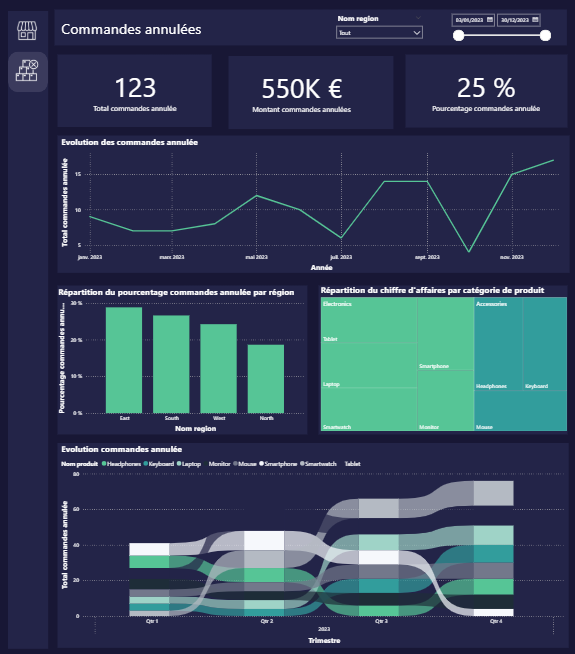

The page's visual inventory and layout, read from the dashboard file:
{"tool":"powerbi","page":{"name":"Ventes annulées","canvas":[1280,2000],"ordinal":1},"visuals":[{"type":"shape","box":[19,58.6,89.7,1417.2],"z":0},{"type":"shape","box":[123.6,57.9,1138.7,79.8],"z":1000},{"type":"shape","box":[129.8,156.4,342.5,161.1],"z":2000},{"type":"shape","box":[129.3,337.9,1137.9,305.2],"z":3000},{"type":"shape","box":[129.3,669,555.2,331],"z":4000},{"type":"shape","box":[708.6,669,553.4,331],"z":5000},{"type":"shape","box":[131,1020.7,1136.2,455.2],"z":6000},{"type":"textbox","box":[132.8,70.7,267.2,53.4],"z":7000},{"type":"lineChart","title":"Evolution des commandes annulée","fields":{"Category":["ventes.Date commande.Variation.Hiérarchie de dates.Année","ventes.Date commande.Variation.Hiérarchie de dates.Trimestre","ventes.Date commande.Variation.Hiérarchie de dates.Mois","ventes.Date commande.Variation.Hiérarchie de dates.Jour"],"Y":["Mésures.Total commandes annulée"]},"box":[131.9,336.6,1129.8,307],"z":8000},{"type":"clusteredColumnChart","title":"Répartition du pourcentage commandes annulée par région","fields":{"Category":["regions.Nom region"],"Y":["Mésures.Pourcentage commandes annulée"]},"box":[128.3,669.5,556.8,331.6],"z":9000},{"type":"treemap","title":"Répartition du chiffre d''affaires par catégorie de produit","fields":{"Group":["produits.Categorie produit"],"Values":["Mésures.Total ventes"],"Details":["produits.Nom produit"]},"box":[708.6,667.9,556.8,331.6],"z":10000},{"type":"slicer","fields":{"Values":["regions.Nom region"]},"box":[739.8,59.4,211.2,79.8],"z":12000},{"type":"slicer","fields":{"Values":["ventes.Date commande"]},"box":[993.2,57.9,242.4,79.8],"z":13000},{"type":"shape","box":[509.5,159.1,366.5,162.3],"z":14000},{"type":"shape","box":[904.9,155.9,360.1,162.3],"z":15000},{"type":"card","fields":{"Values":["Mésures.Total commande annulée"]},"box":[128.6,157.5,344,159.1],"z":16000},{"type":"card","fields":{"Values":["Mésures.Montant commandes annulées"]},"box":[501.5,160.7,344,157.5],"z":17000},{"type":"card","fields":{"Values":["Mésures.Pourcentage commandes annulée"]},"box":[911.3,157.5,344.4,159.4],"z":17001},{"type":"actionButton","box":[0,0,100,40],"z":17002},{"type":"ribbonChart","title":"Evolution commandes annulée","fields":{"Category":["ventes.Date commande.Variation.Hiérarchie de dates.Année","ventes.Date commande.Variation.Hiérarchie de dates.Trimestre","ventes.Date commande.Variation.Hiérarchie de dates.Mois","ventes.Date commande.Variation.Hiérarchie de dates.Jour"],"Y":["Mésures.Total commandes annulée"],"Series":["produits.Nom produit"]},"box":[134.5,1021.4,1129.3,453.6],"z":17003}]}

Visuals, with their boxes on the page's 1280x2000 design canvas (x1, y1, x2, y2). These are canvas units, not pixel positions in the 575x654 screenshot, which may show the page scaled, cropped or inside an application window:
shape: l=19, t=59, r=109, b=1476
shape: l=124, t=58, r=1262, b=138
shape: l=130, t=156, r=472, b=318
shape: l=129, t=338, r=1267, b=643
shape: l=129, t=669, r=684, b=1000
shape: l=709, t=669, r=1262, b=1000
shape: l=131, t=1021, r=1267, b=1476
textbox: l=133, t=71, r=400, b=124
"Evolution des commandes annulée" lineChart: l=132, t=337, r=1262, b=644
"Répartition du pourcentage commandes annulée par région" clusteredColumnChart: l=128, t=670, r=685, b=1001
"Répartition du chiffre d''affaires par catégorie de produit" treemap: l=709, t=668, r=1265, b=1000
slicer - regions.Nom region: l=740, t=59, r=951, b=139
slicer - ventes.Date commande: l=993, t=58, r=1236, b=138
shape: l=510, t=159, r=876, b=321
shape: l=905, t=156, r=1265, b=318
card - Mésures.Total commande annulée: l=129, t=158, r=473, b=317
card - Mésures.Montant commandes annulées: l=502, t=161, r=846, b=318
card - Mésures.Pourcentage commandes annulée: l=911, t=158, r=1256, b=317
actionButton: l=0, t=0, r=100, b=40
"Evolution commandes annulée" ribbonChart: l=134, t=1021, r=1264, b=1475
